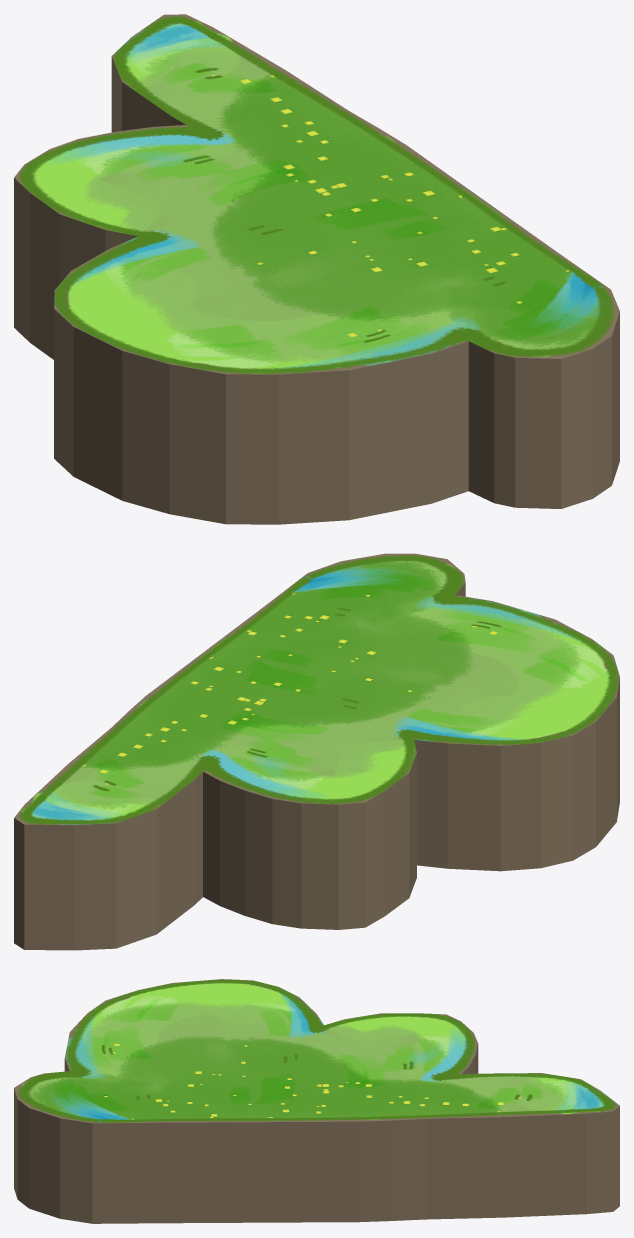
File: Arbusto1.fbx
3 renders of one model, top to bottom at view 1: azimuth 30°, elevation 25°; view 2: azimuth 150°, elevation 25°; view 3: azimuth 270°, elevation 25°, orthographic. The views are drawn at different scales.
Visible parts, largest first — view 1: Cube.006; view 2: Cube.006; view 3: Cube.006.
Boxes of the visible parts, left/top/right/bottom form: Cube.006: left=14, top=14, right=619, bottom=524; Cube.006: left=14, top=553, right=619, bottom=950; Cube.006: left=14, top=979, right=619, bottom=1223.
Size of the model in its own units: 212 by 68.85 by 376.
